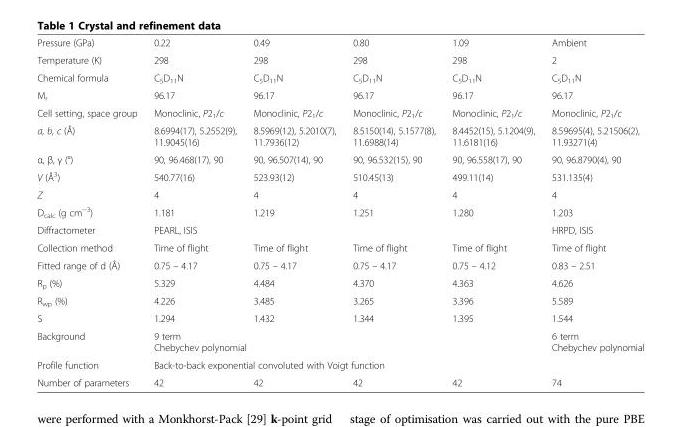table: (36, 36, 643, 387)
table column: (36, 36, 144, 387), (542, 36, 643, 387), (144, 36, 244, 387), (343, 36, 443, 387), (244, 36, 343, 387), (443, 36, 542, 387)
table row: (36, 326, 643, 355), (36, 121, 643, 149), (36, 202, 643, 221), (36, 50, 643, 68), (36, 68, 643, 86), (36, 86, 643, 104), (36, 149, 643, 167), (36, 167, 643, 185), (36, 238, 643, 256), (36, 273, 643, 291), (36, 291, 643, 309), (36, 355, 643, 373), (36, 104, 643, 121), (36, 185, 643, 202), (36, 221, 643, 238), (36, 256, 643, 273), (36, 309, 643, 326), (36, 36, 643, 50), (36, 373, 643, 387)
table spanning cell: (144, 326, 542, 355), (144, 355, 643, 373), (144, 221, 542, 238)
